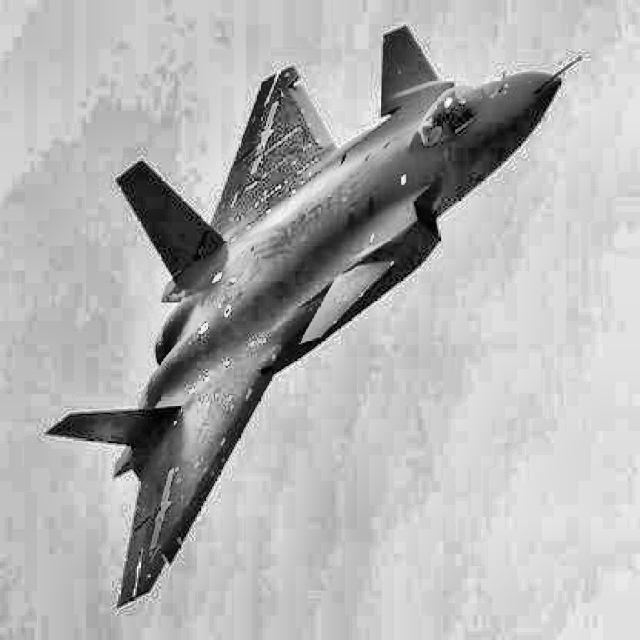J20: (44, 25, 582, 609)
